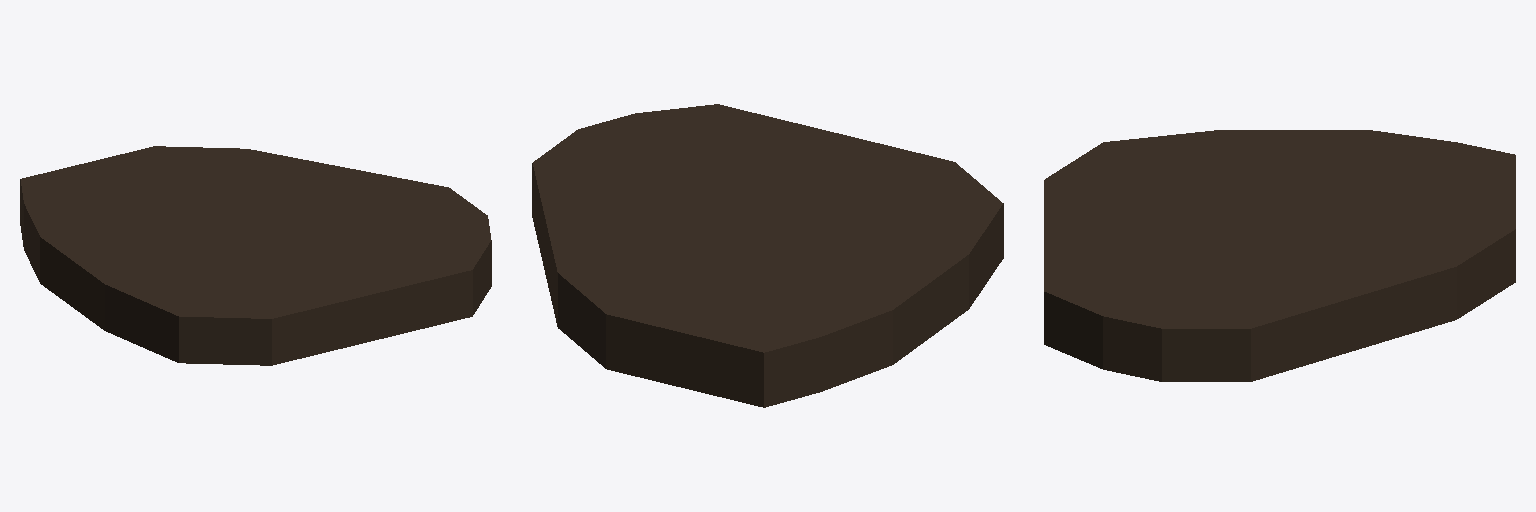
robot.urdf — table:
<?xml version="1.0"?>
<robot name="table">
  <!-- The table top of Cereal box on tiles: a static convex slab, top face at z = 0. Load with a fixed base -->
  <mujoco>
    <compiler meshdir="../meshes/" discardvisual="true" balanceinertia="true" fusestatic="false" />
  </mujoco>
  <link name="table">
    <inertial>
      <mass value="20" />
      <inertia ixx="1" ixy="0" ixz="0" iyy="1" iyz="0" izz="1" />
    </inertial>
    <visual>
      <geometry>
        <mesh filename="../meshes/table.obj" />
      </geometry>
      <material name="table_color">
        <color rgba="0.271 0.224 0.18 1" />
      </material>
    </visual>
    <collision>
      <geometry>
        <mesh filename="../meshes/table.obj" />
      </geometry>
    </collision>
    <contact>
      <lateral_friction value="1" />
    </contact>
  </link>
</robot>

--- Render facts (derived) ---
3 views of the same robot in one strip: view 1: azimuth 30°, elevation 25°; view 2: azimuth 150°, elevation 25°; view 3: azimuth 270°, elevation 25° (orthographic).
Robot: table — 1 links, 0 joints (none); root link table; default pose: every joint at zero.
Links seen in each view (by area): view 1: table; view 2: table; view 3: table.
Link boxes in pixels (x1,y1,x2,y2): table: (20, 146, 491, 365); table: (532, 104, 1003, 407); table: (1044, 130, 1515, 381).
Size in the robot's own frame: 0.32 by 0.32 by 0.04 metres.
Meshes: 1 distinct files referenced, 1 mesh visuals loaded (1 OBJ).
